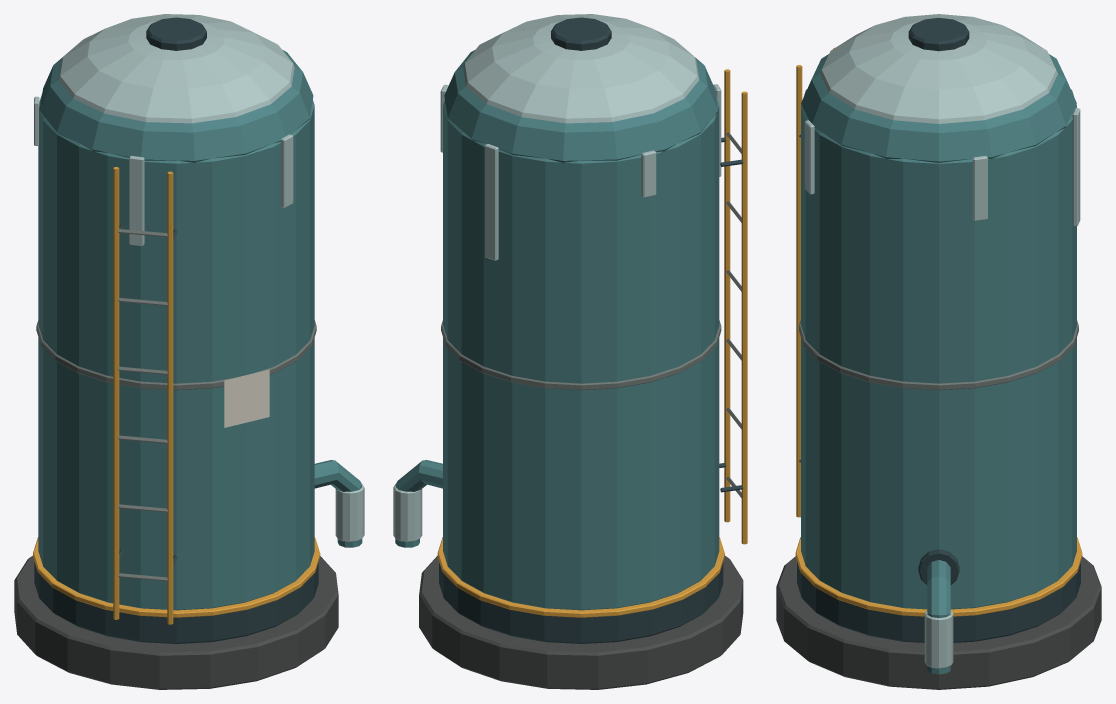
File: frost-silo.glb
3 renders of one model, left to right at view 1: azimuth 30°, elevation 25°; view 2: azimuth 150°, elevation 25°; view 3: azimuth 270°, elevation 25°, orthographic.
Parts seen in each view (by area): view 1: frost-silo__frost-silo__petrol, frost-silo__frost-silo__frost, frost-silo__frost-silo__concrete-dark, frost-silo__frost-silo__steel, frost-silo__frost-silo__amber, frost-silo__frost-silo__hardware, frost-silo__frost-silo__decal-ivory; view 2: frost-silo__frost-silo__petrol, frost-silo__frost-silo__frost, frost-silo__frost-silo__concrete-dark, frost-silo__frost-silo__steel, frost-silo__frost-silo__amber, frost-silo__frost-silo__hardware; view 3: frost-silo__frost-silo__petrol, frost-silo__frost-silo__frost, frost-silo__frost-silo__concrete-dark, frost-silo__frost-silo__steel, frost-silo__frost-silo__amber, frost-silo__frost-silo__hardware.
Boxes of the visible parts, x1,y1,x2,y2 form: frost-silo__frost-silo__petrol: (38,50,362,610); frost-silo__frost-silo__frost: (34,14,364,541); frost-silo__frost-silo__concrete-dark: (14,555,338,689); frost-silo__frost-silo__steel: (34,17,318,643); frost-silo__frost-silo__amber: (33,167,320,624); frost-silo__frost-silo__hardware: (36,229,316,581); frost-silo__frost-silo__decal-ivory: (224,369,269,427); frost-silo__frost-silo__petrol: (395,50,719,610); frost-silo__frost-silo__frost: (393,14,721,541); frost-silo__frost-silo__concrete-dark: (419,556,743,689); frost-silo__frost-silo__steel: (439,17,743,643); frost-silo__frost-silo__amber: (437,69,747,617); frost-silo__frost-silo__hardware: (441,132,741,497); frost-silo__frost-silo__petrol: (801,54,1076,674); frost-silo__frost-silo__frost: (804,14,1080,668); frost-silo__frost-silo__concrete-dark: (776,556,1101,689); frost-silo__frost-silo__steel: (797,18,1080,642); frost-silo__frost-silo__amber: (795,47,1082,616); frost-silo__frost-silo__hardware: (799,320,1078,390).
Size of the model in its own units: 2.74 by 4.74 by 2.36.
